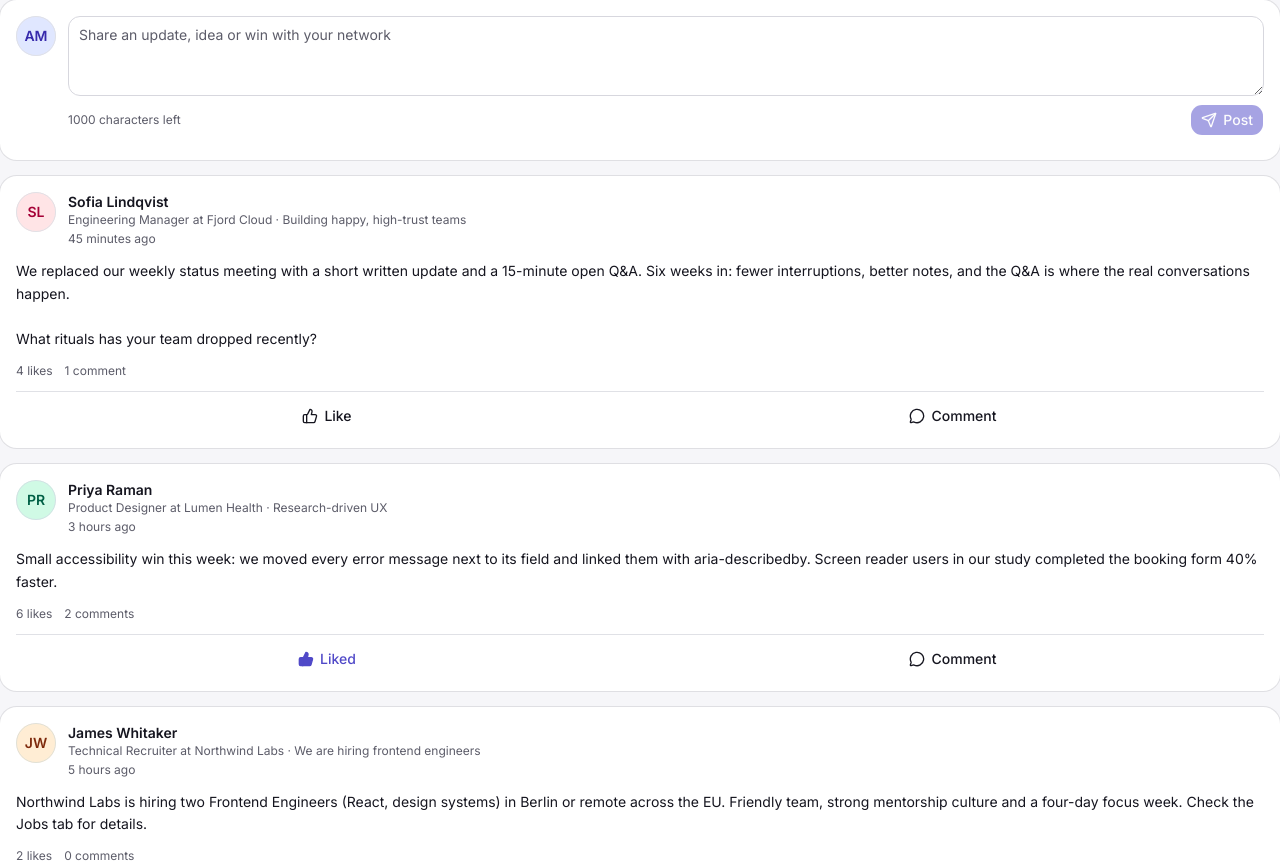
Test: FeedList › publishes a new post at the top of the feed
This screenshot has width=1280, height=863.
Expected: the button "Post" is disabled, [1190,104,1264,136]
Type "Shipping the new Connectly feed today" into the text box labelled "Share an update" at (666, 56), box [68,16,1264,96]
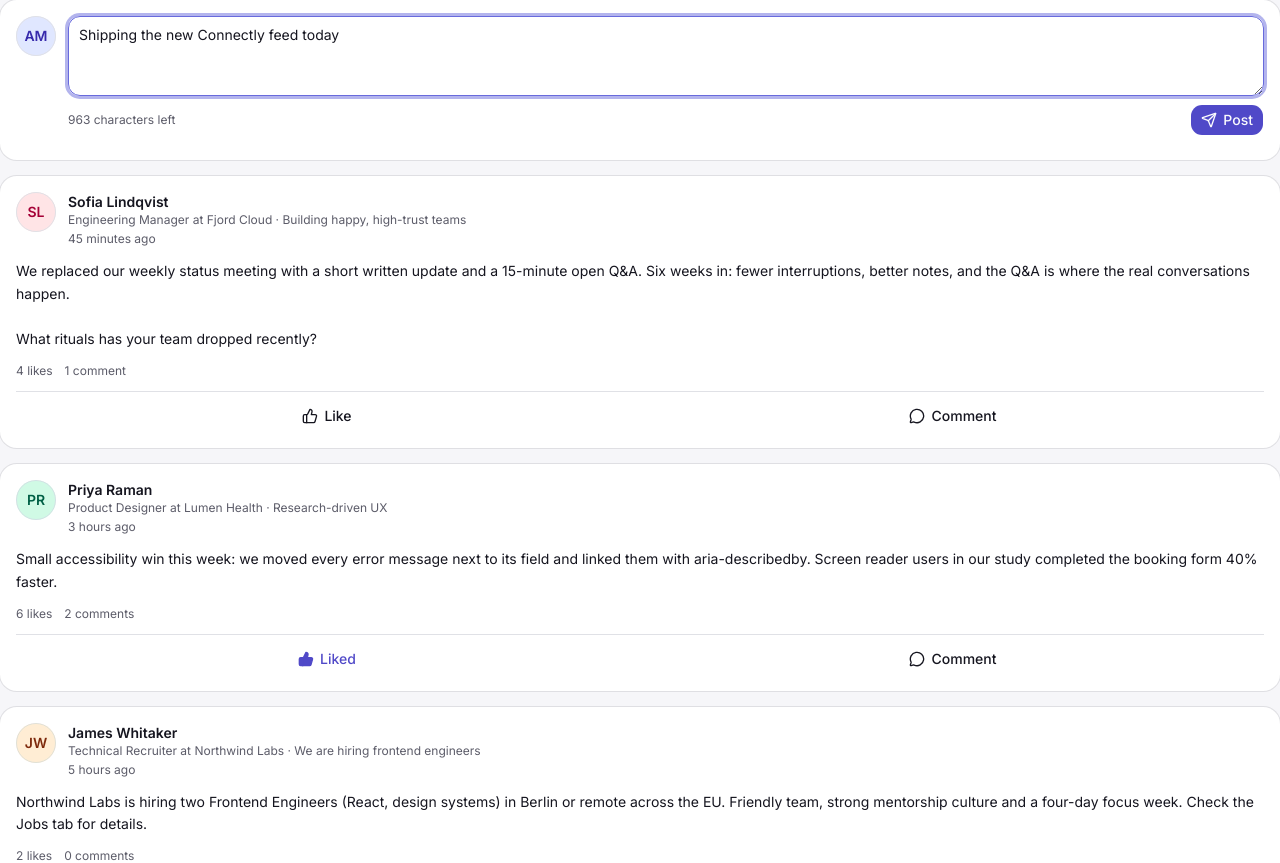
Click the button "Post" at (1227, 120), box [1190,104,1264,136]
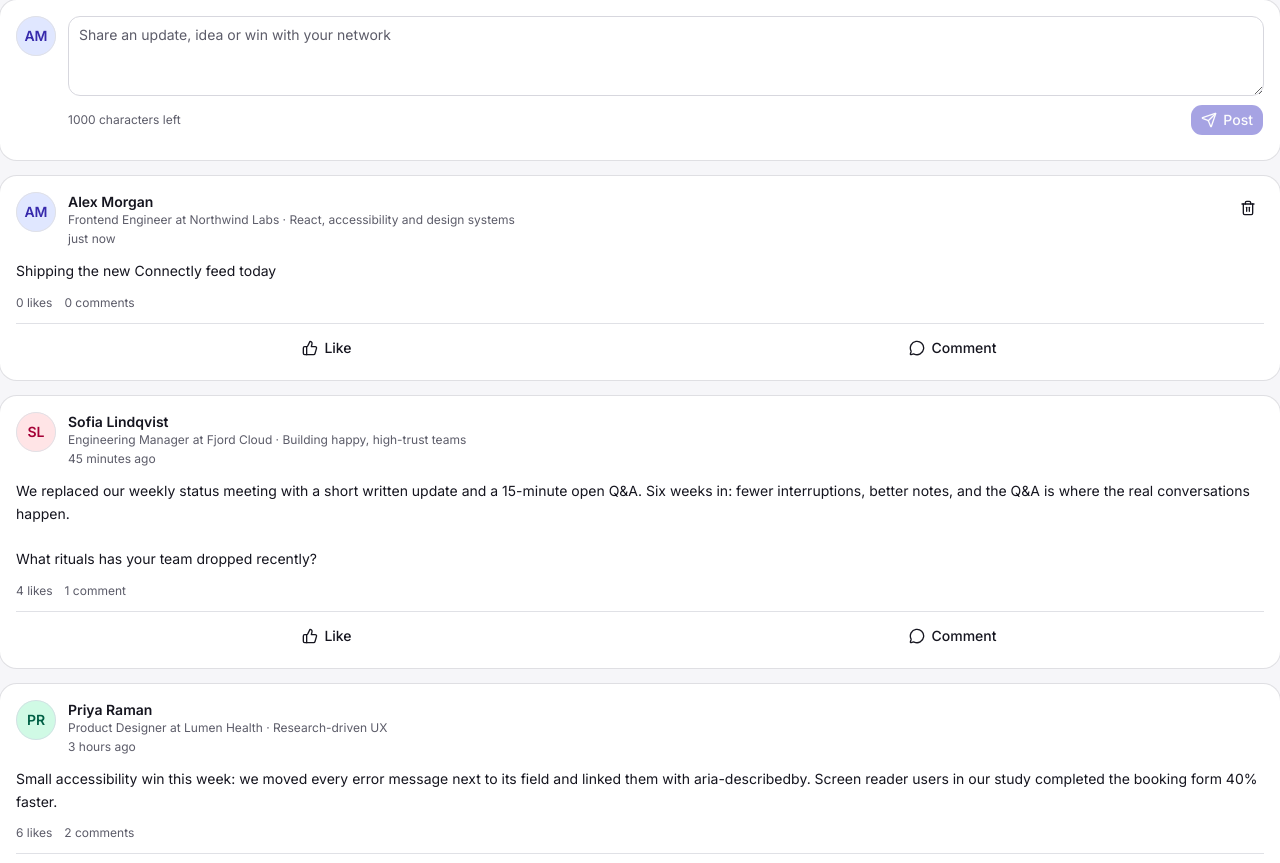
Result: the text "Shipping the new Connectly feed today" is shown at [16,262,276,279]
Result: the heading "Alex Morgan" is shown at [68,193,153,210]
Result: the text box labelled "Share an update" is empty at [68,16,1264,96]
